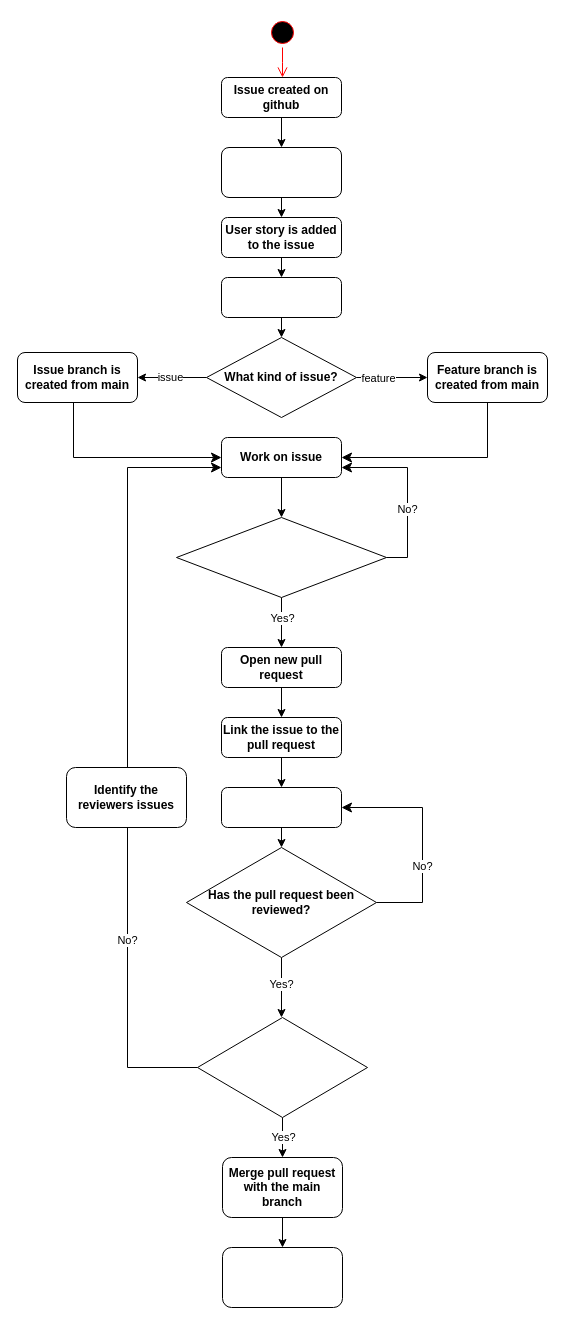
The diagram is 565 pixels wide and 1325 high, and some of its shapes have lost their labels. The centre of each missing label's shape, as x and y in pixels:
"Acceptance criteria identified" goes at pixel 281 297.
"Are all acceptance criteria satisfied?" goes at pixel 281 557.
"Close the pull request and delete it's branch" goes at pixel 282 1277.
"Has the pull request been approved?" goes at pixel 282 1067.
"Title created from our own template" goes at pixel 281 172.
"Wait for a minimum of one reviewer" goes at pixel 281 807.
